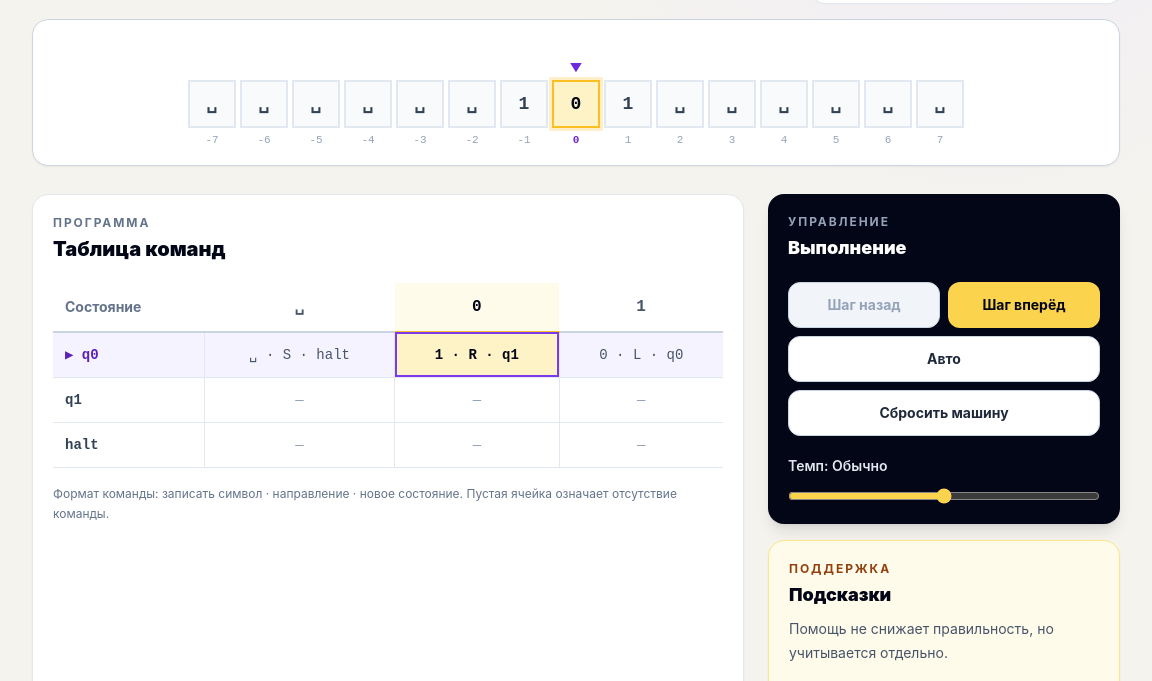
Test: экран учебной задачи › останавливает автозапуск при размонтировании экрана
The width and height of the screenshot is (1152, 681).
(page scrolled)
Click the button "Авто" at (944, 358), box [788,336,1100,382]
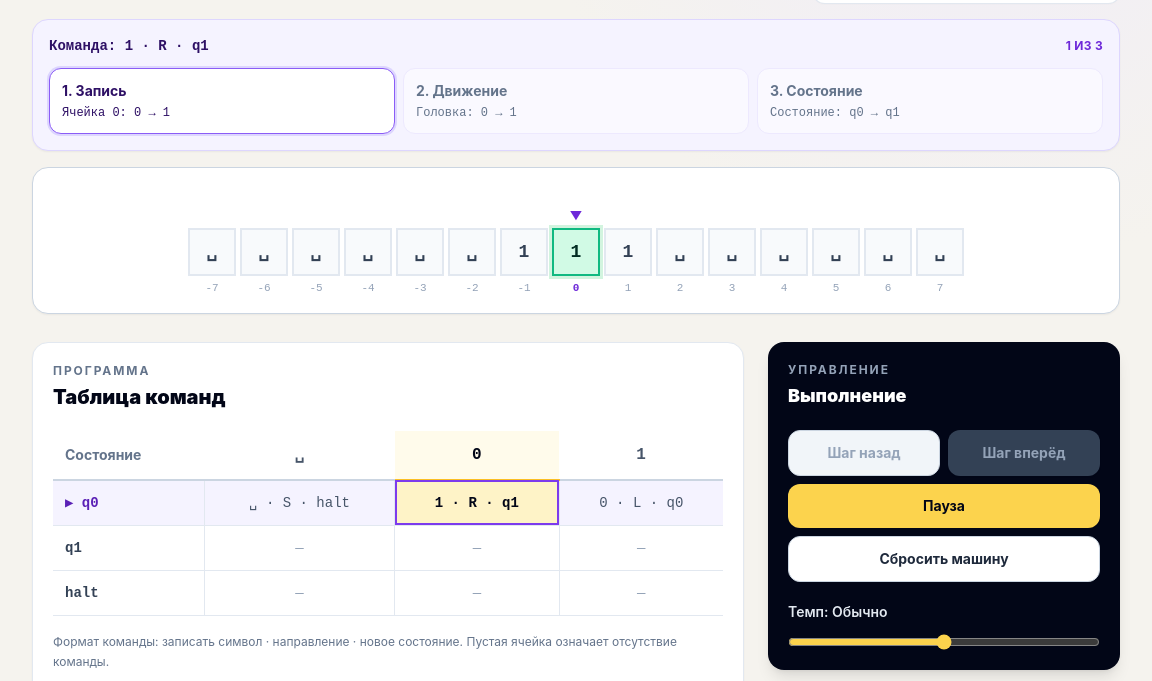
Result: the button "Пауза" is shown at [788,484,1100,528]
